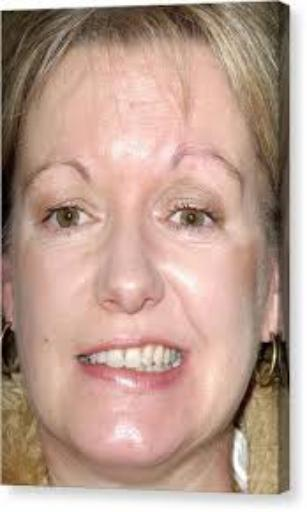left_eye: (158, 207, 220, 237)
left_lip_corner: (175, 340, 198, 365)
right_eye: (39, 200, 105, 232)
right_lip_corner: (65, 345, 93, 373)
